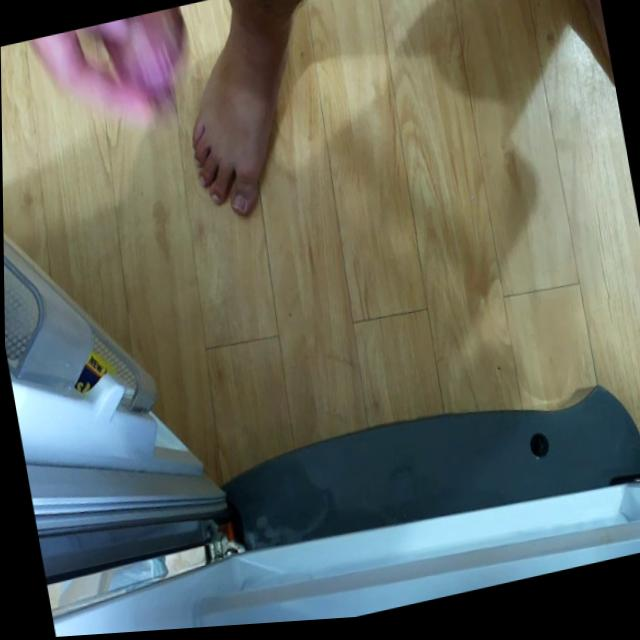onion: (98, 8, 200, 129)
